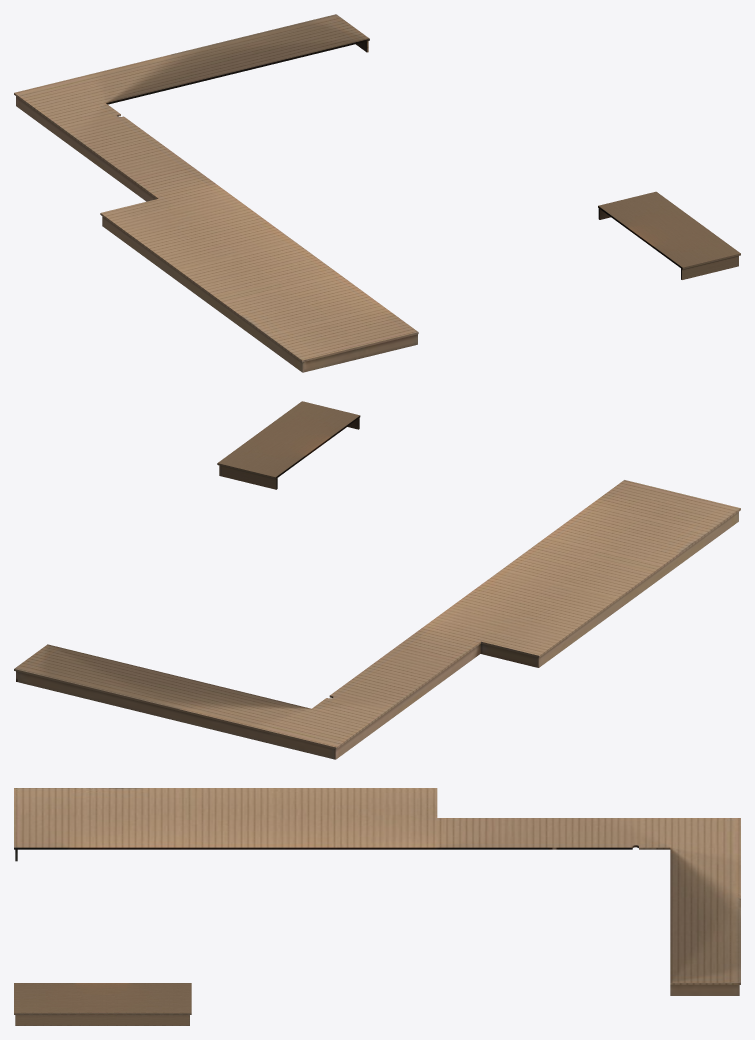
Rendered from Bigger Deck.glb.
The picture shows the model from 3 angles, top to bottom: view 1: azimuth 30°, elevation 25°; view 2: azimuth 150°, elevation 25°; view 3: azimuth 270°, elevation 25°; orthographic projection. The views are drawn at different scales.
Visible parts, largest first — view 1: Interior_Wood_Deck-Plus; view 2: Interior_Wood_Deck-Plus; view 3: Interior_Wood_Deck-Plus.
Boxes of the visible parts, x1,y1,x2,y2 form: Interior_Wood_Deck-Plus: (14, 14, 740, 372); Interior_Wood_Deck-Plus: (14, 401, 740, 759); Interior_Wood_Deck-Plus: (14, 788, 740, 1025).
Size of the model in its own units: 3.61 by 0.1026 by 4.94.
2 materials, 2 textured.
